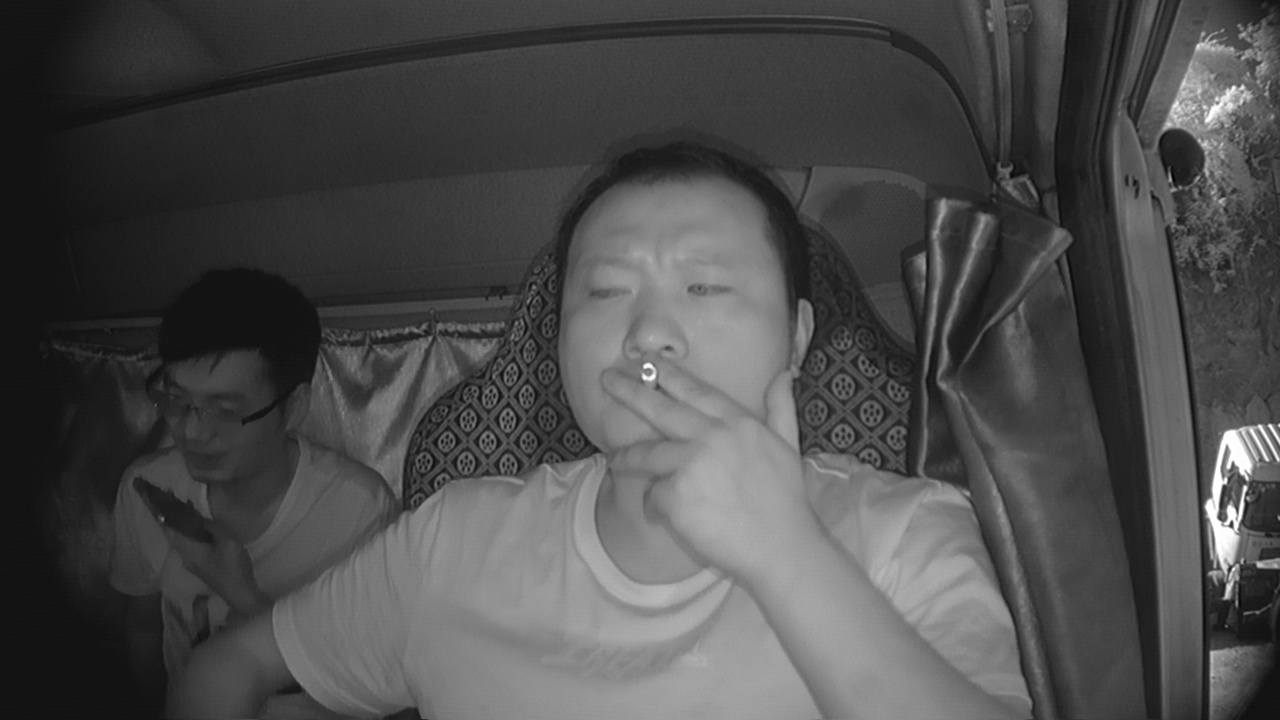hand: (601, 349, 802, 554)
